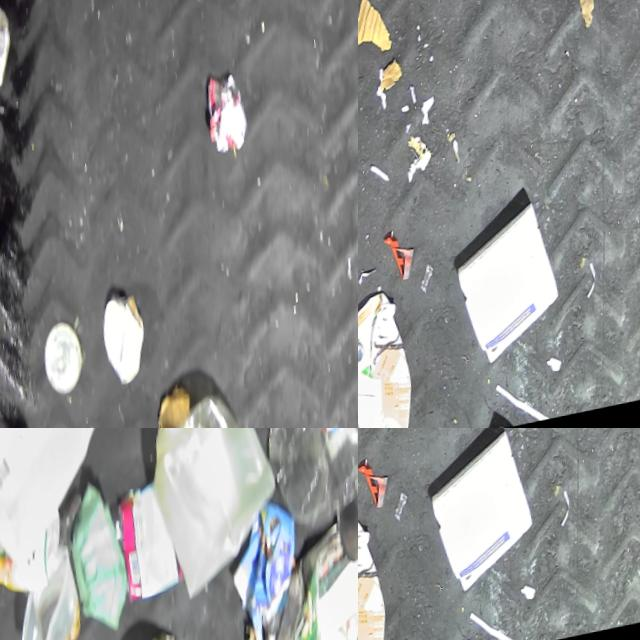can: (202, 70, 259, 164), (45, 319, 98, 400), (331, 455, 358, 577)
milk_jug: (136, 428, 301, 614), (0, 428, 145, 578)
non_white_jug: (358, 292, 436, 428), (358, 520, 410, 640)
plastic_bottle: (252, 428, 358, 546), (165, 387, 265, 428), (0, 0, 27, 147)
